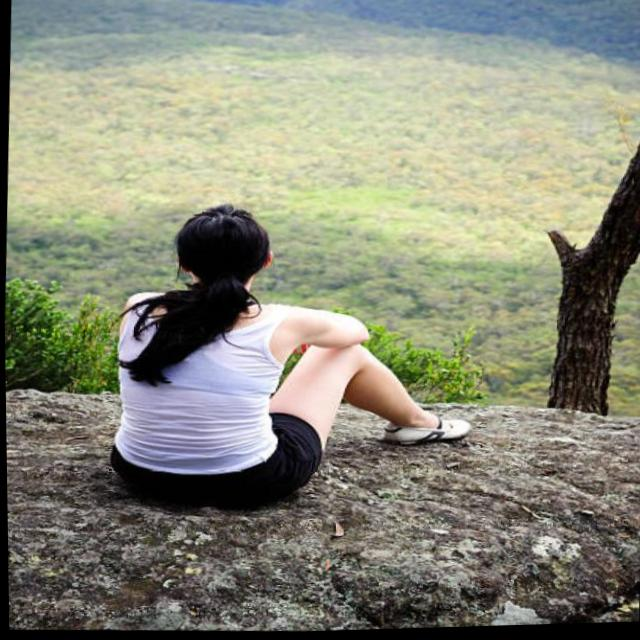no helmet: (124, 164, 301, 350)
